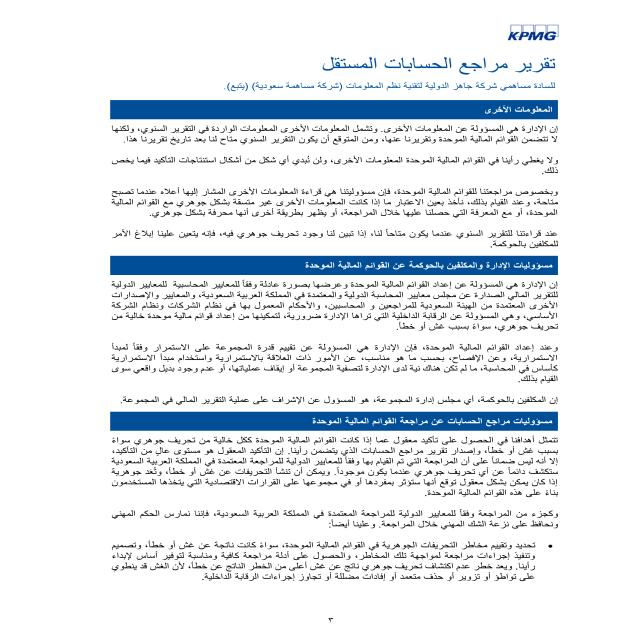auditor_report: (318, 52, 570, 74)
